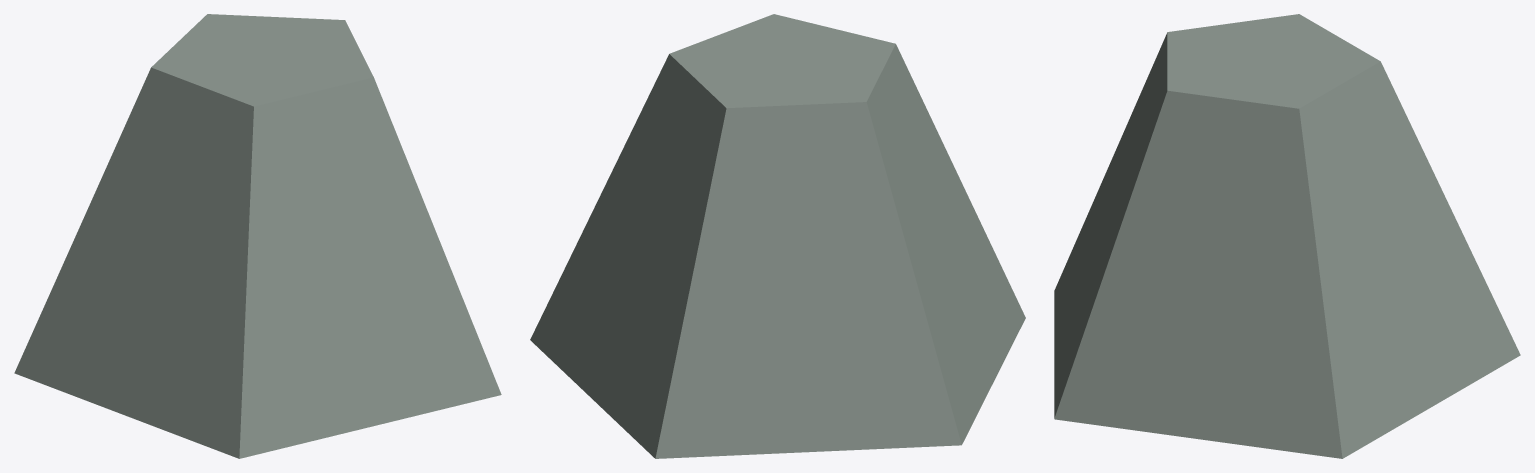
The model's file is prop_rock.glb.
The picture shows the model from 3 angles, left to right: view 1: azimuth 30°, elevation 25°; view 2: azimuth 150°, elevation 25°; view 3: azimuth 270°, elevation 25°; orthographic projection.
Visible parts, largest first — view 1: prop_rock; view 2: prop_rock; view 3: prop_rock.
Part boxes in pixels (box(x1,y1,x2,y2)): prop_rock: box(14, 14, 501, 458); prop_rock: box(530, 14, 1025, 458); prop_rock: box(1054, 14, 1520, 458).
Size of the model in its own units: 0.6657 by 0.44 by 0.6332.
Materials: 1 (1 with a texture image).
